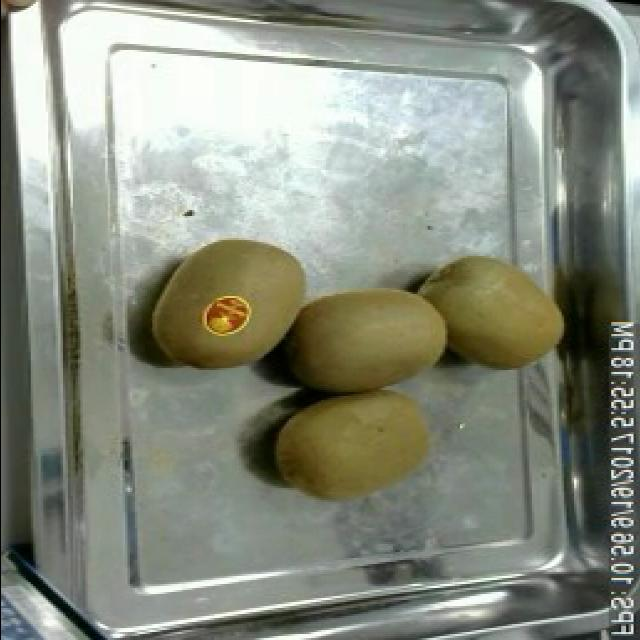Fruit: (141, 226, 315, 382), (263, 384, 439, 512), (273, 278, 457, 398), (407, 248, 573, 378)
